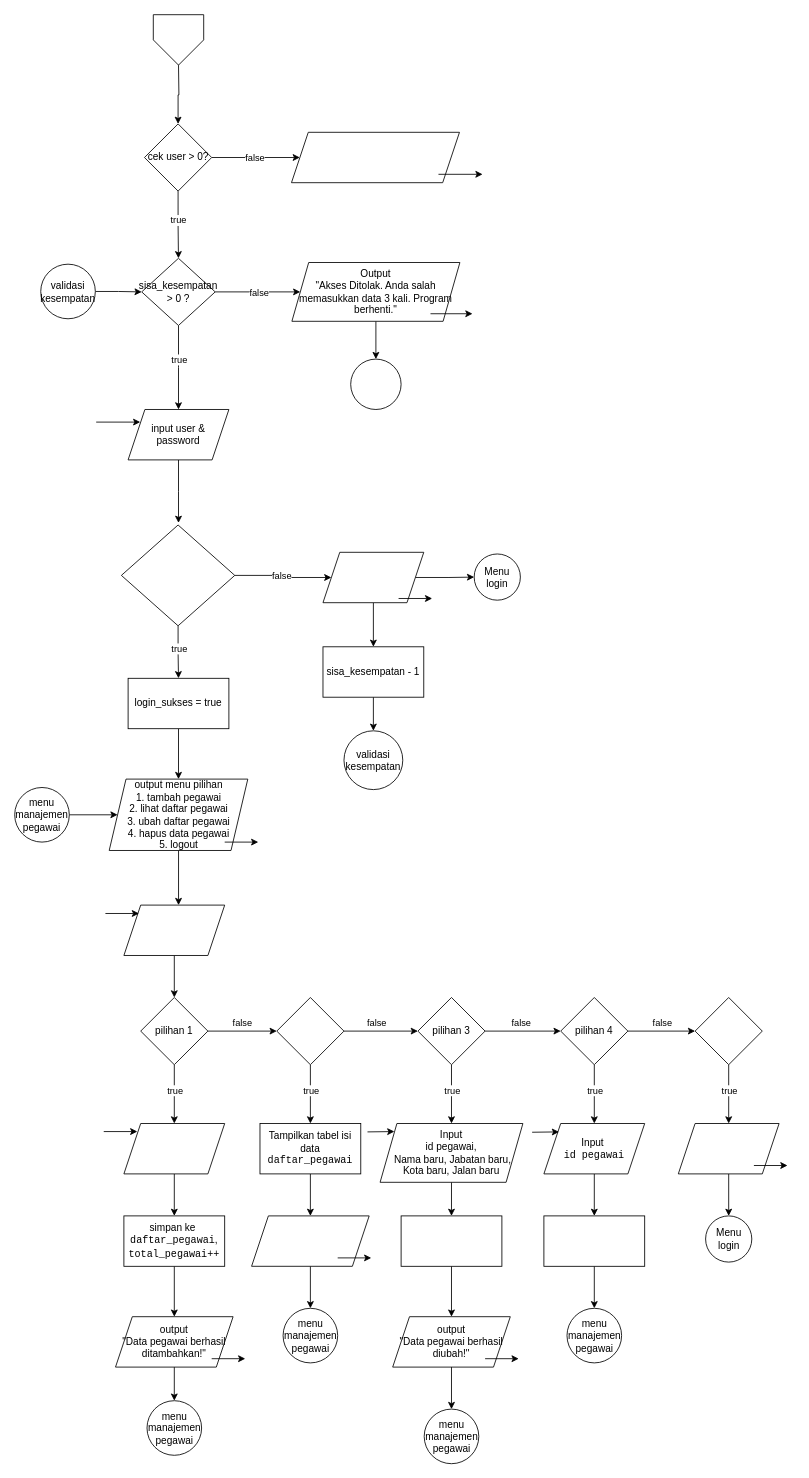
This 809x1478 diagram has some shape labels left out. Here are the shapes that lost their labels. From the top down, the centre of each, then its label:
the point at 178,39: Page 2
the point at 375,157: Output "Belum ada pengguna, silakan registrasi dahulu."
the point at 375,384: exit program
the point at 178,575: Apakah nama dan password cocok di daftar_akun?
the point at 373,577: Output "Username atau password salah."
the point at 174,930: input menu pilihan
the point at 310,1031: pilihan 2
the point at 728,1031: pilihan 5
the point at 174,1148: Input Nama , Jabatan, Kota, Jalan
the point at 728,1148: output "Logout berhasil."
the point at 310,1240: output daftar pegawai
the point at 451,1240: timpa data (Nama, Jabatan, Kota, Jalan) di daftar_pegawai
the point at 594,1240: hapus data pegawai, total_pegawai--
